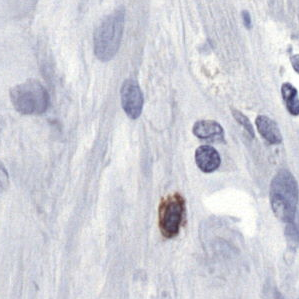Lymphocyte: (156, 192, 187, 241)
